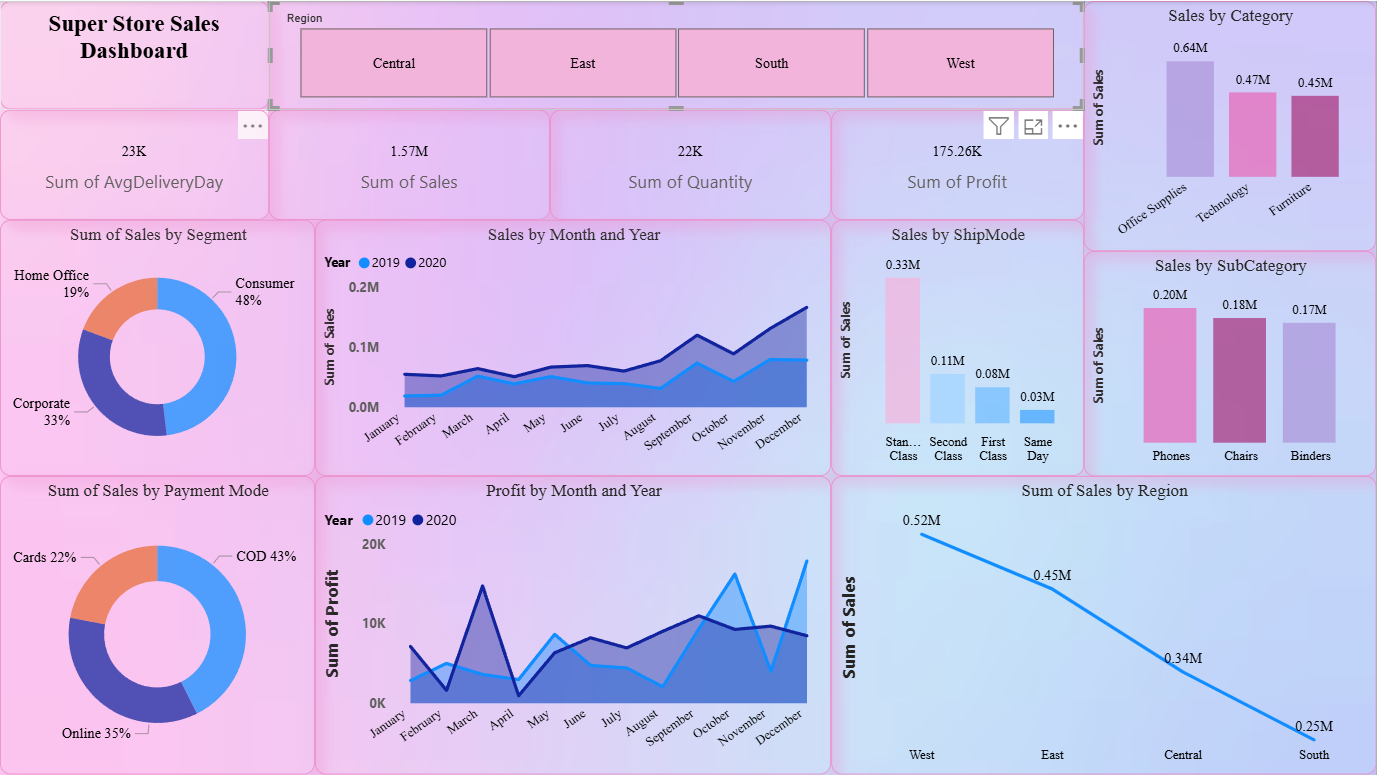

Layout of this report page (visuals, bound fields, positions):
{"tool":"powerbi","page":{"name":"Page 1","canvas":[1280,720],"ordinal":0},"visuals":[{"type":"columnChart","title":"Sales by Category","fields":{"Category":["SuperStore_Sales_Dataset.Category"],"Y":["Sum(SuperStore_Sales_Dataset.Sales)"]},"box":[1008.1,0,272.1,232.6],"z":0},{"type":"columnChart","title":"Sales by SubCategory","fields":{"Category":["SuperStore_Sales_Dataset.Sub-Category"],"Y":["Sum(SuperStore_Sales_Dataset.Sales)"]},"box":[1008.1,232.6,272.1,209.3],"z":1000},{"type":"columnChart","title":"Sales by ShipMode","fields":{"Category":["SuperStore_Sales_Dataset.Ship Mode"],"Y":["Sum(SuperStore_Sales_Dataset.Sales)"]},"box":[773.3,203.5,234.9,238.4],"z":2000},{"type":"areaChart","title":"Sales by Month and Year","fields":{"Y":["Sum(SuperStore_Sales_Dataset.Sales)"],"Category":["SuperStore_Sales_Dataset.Order Date.Variation.Date Hierarchy.Month","SuperStore_Sales_Dataset.Order Date.Variation.Date Hierarchy.Day"],"Series":["SuperStore_Sales_Dataset.Order Date.Variation.Date Hierarchy.Year"]},"box":[293,203.5,480.2,238.4],"z":3000},{"type":"areaChart","title":"Profit by Month and Year","fields":{"Category":["SuperStore_Sales_Dataset.Order Date.Variation.Date Hierarchy.Month","SuperStore_Sales_Dataset.Order Date.Variation.Date Hierarchy.Day"],"Series":["SuperStore_Sales_Dataset.Order Date.Variation.Date Hierarchy.Year"],"Y":["Sum(SuperStore_Sales_Dataset.Profit)"]},"box":[293,441.9,480.2,277.9],"z":4000},{"type":"donutChart","fields":{"Category":["SuperStore_Sales_Dataset.Segment"],"Y":["Sum(SuperStore_Sales_Dataset.Sales)"]},"box":[0,203.5,293,238.4],"z":6000},{"type":"donutChart","fields":{"Category":["SuperStore_Sales_Dataset.Payment Mode"],"Y":["Sum(SuperStore_Sales_Dataset.Sales)"]},"box":[0,441.9,293,277.9],"z":7000},{"type":"slicer","fields":{"Values":["SuperStore_Sales_Dataset.Region"]},"box":[250,0,758.1,101.2],"z":8000},{"type":"textbox","box":[0,0,250,101.2],"z":9000},{"type":"card","fields":{"Values":["Sum(SuperStore_Sales_Dataset.Sales)"]},"box":[250,101.2,261.6,102.3],"z":10000},{"type":"card","fields":{"Values":["Sum(SuperStore_Sales_Dataset.Quantity)"]},"box":[511.6,101.2,261.6,102.3],"z":11000},{"type":"card","fields":{"Values":["Sum(SuperStore_Sales_Dataset.Profit)"]},"box":[773.3,101.2,234.9,102.3],"z":12000},{"type":"card","fields":{"Values":["Sum(SuperStore_Sales_Dataset.AvgDeliveryDay)"]},"box":[0,101.2,250,102.3],"z":13000},{"type":"lineChart","fields":{"Y":["Sum(SuperStore_Sales_Dataset.Sales)"],"Category":["SuperStore_Sales_Dataset.Region"]},"box":[773.3,441.9,507,277.9],"z":13001}]}

Visuals, with their boxes in screenshot pixels (x1, y1, x2, y2), scaled from the page's 1280x720 canvas onto the 1377x775 screenshot:
"Sales by Category" columnChart: {"left": 1084, "top": 0, "right": 1376, "bottom": 250}
"Sales by SubCategory" columnChart: {"left": 1084, "top": 250, "right": 1376, "bottom": 476}
"Sales by ShipMode" columnChart: {"left": 832, "top": 219, "right": 1085, "bottom": 476}
"Sales by Month and Year" areaChart: {"left": 315, "top": 219, "right": 832, "bottom": 476}
"Profit by Month and Year" areaChart: {"left": 315, "top": 476, "right": 832, "bottom": 774}
donutChart - SuperStore_Sales_Dataset.Segment x Sum(SuperStore_Sales_Dataset.Sales): {"left": 0, "top": 219, "right": 315, "bottom": 476}
donutChart - SuperStore_Sales_Dataset.Payment Mode x Sum(SuperStore_Sales_Dataset.Sales): {"left": 0, "top": 476, "right": 315, "bottom": 774}
slicer - SuperStore_Sales_Dataset.Region: {"left": 269, "top": 0, "right": 1084, "bottom": 109}
textbox: {"left": 0, "top": 0, "right": 269, "bottom": 109}
card - Sum(SuperStore_Sales_Dataset.Sales): {"left": 269, "top": 109, "right": 550, "bottom": 219}
card - Sum(SuperStore_Sales_Dataset.Quantity): {"left": 550, "top": 109, "right": 832, "bottom": 219}
card - Sum(SuperStore_Sales_Dataset.Profit): {"left": 832, "top": 109, "right": 1085, "bottom": 219}
card - Sum(SuperStore_Sales_Dataset.AvgDeliveryDay): {"left": 0, "top": 109, "right": 269, "bottom": 219}
lineChart - Sum(SuperStore_Sales_Dataset.Sales) x SuperStore_Sales_Dataset.Region: {"left": 832, "top": 476, "right": 1376, "bottom": 774}
